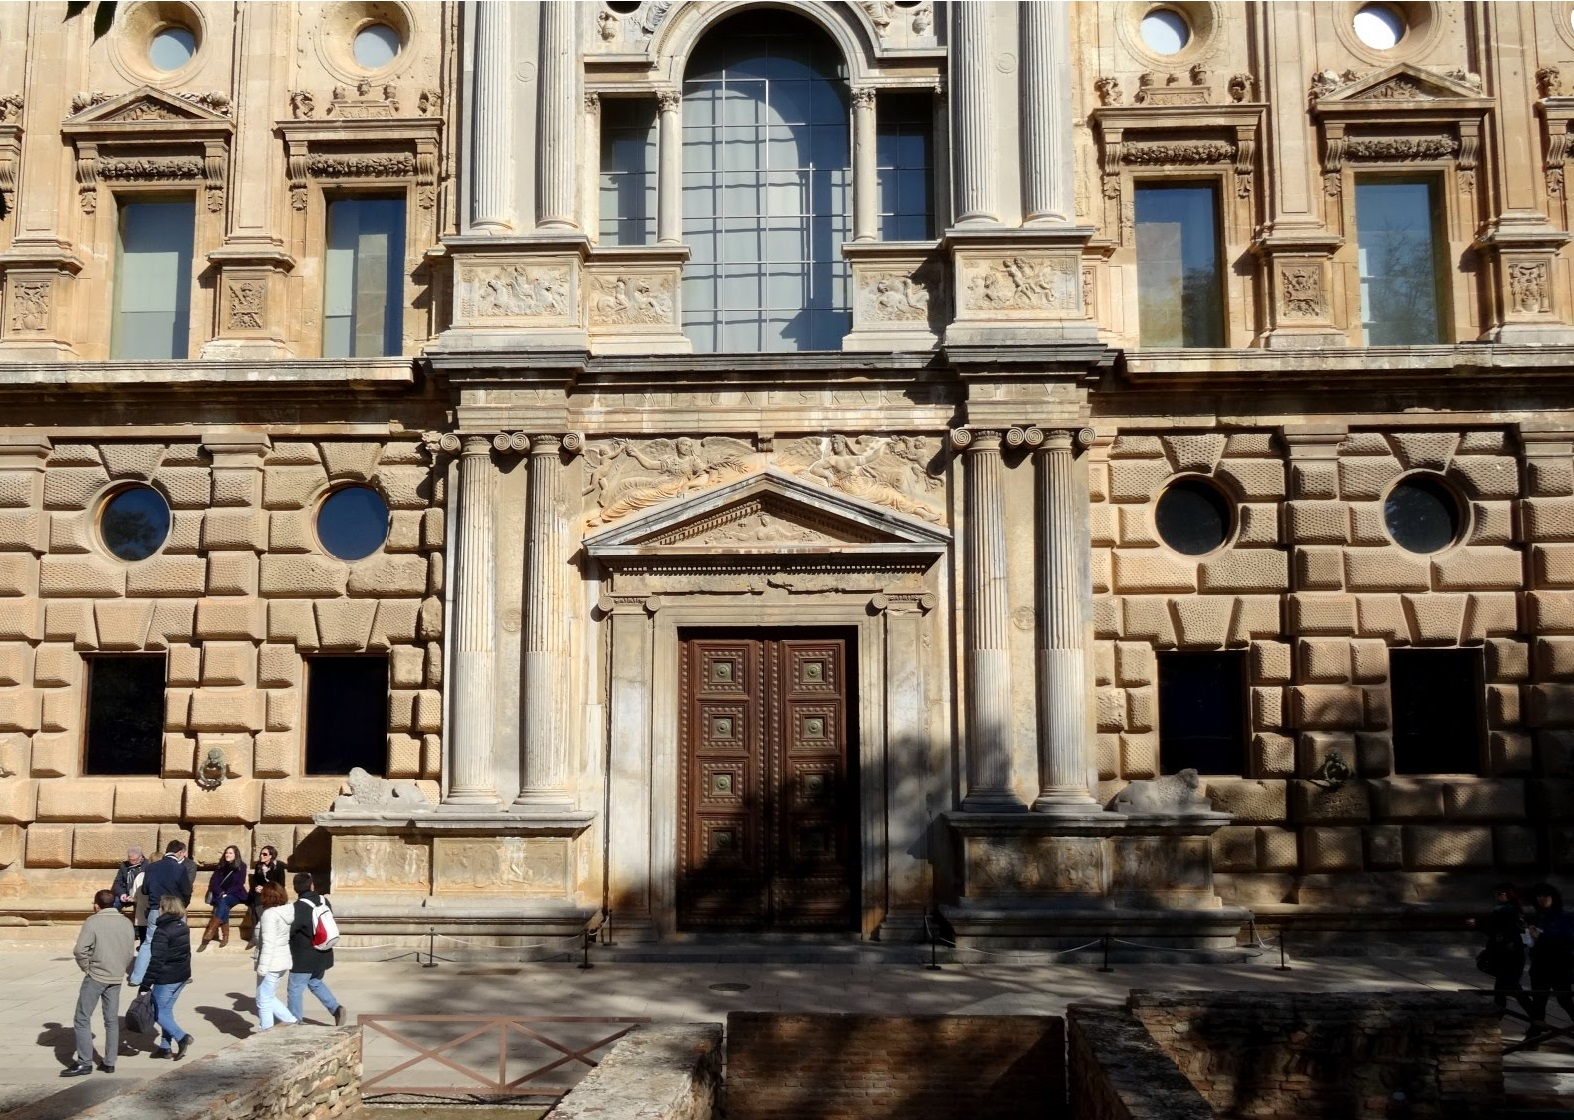fronton: (569, 464, 961, 578), (1307, 56, 1503, 122), (53, 80, 244, 144)
ojo-de-buey: (1137, 457, 1254, 566), (1373, 455, 1482, 566), (76, 465, 181, 568), (299, 463, 400, 570), (308, 1, 419, 80), (105, 1, 208, 79), (1121, 1, 1208, 63), (1341, 1, 1431, 58)
serliana: (584, 1, 941, 262)
vano-adintelado: (643, 589, 891, 945), (1337, 155, 1473, 349), (1121, 161, 1244, 353), (299, 171, 422, 362), (92, 175, 208, 366)
